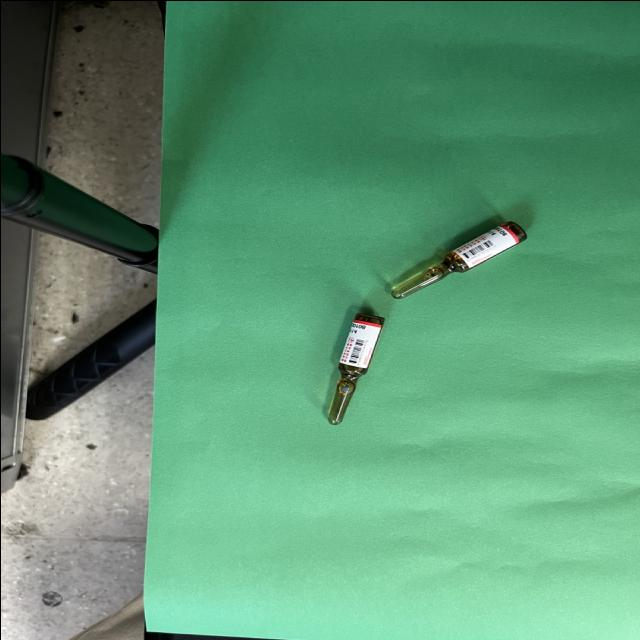Ampoules: (391, 221, 525, 298), (327, 312, 383, 424)
